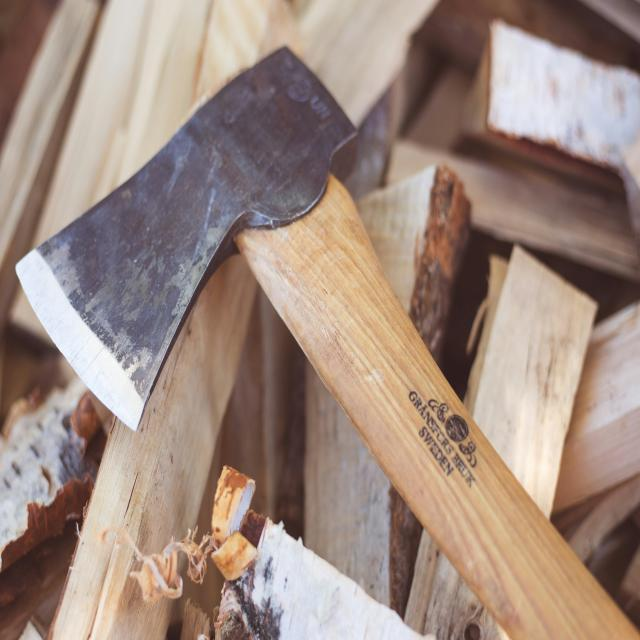Axe: (18, 48, 600, 640)
